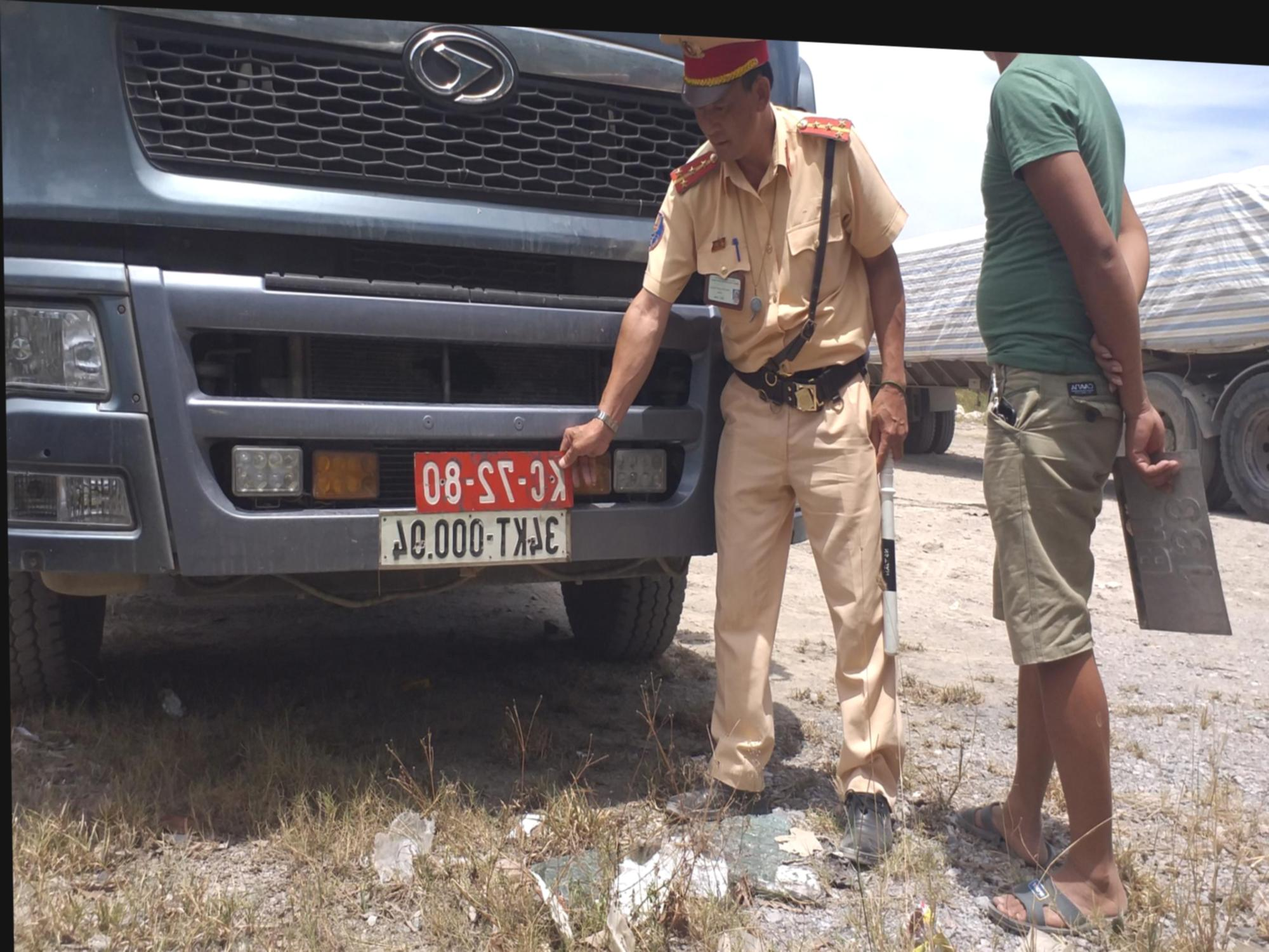License_Plate: (376, 500, 564, 581), (410, 440, 572, 518)
